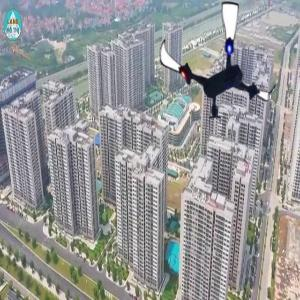drone: (153, 2, 279, 128)
